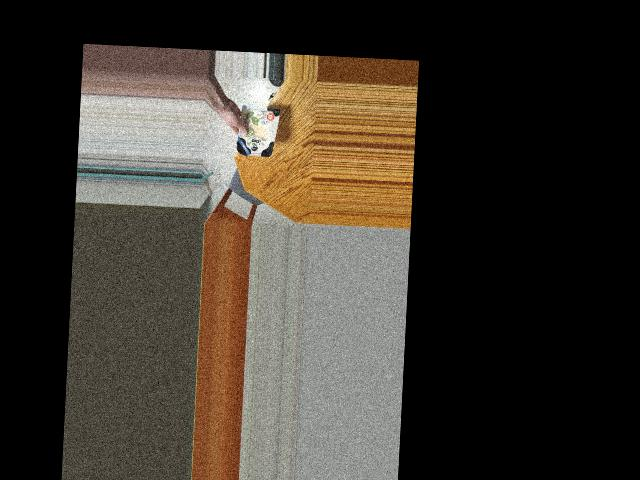cheese: (233, 96, 274, 163)
